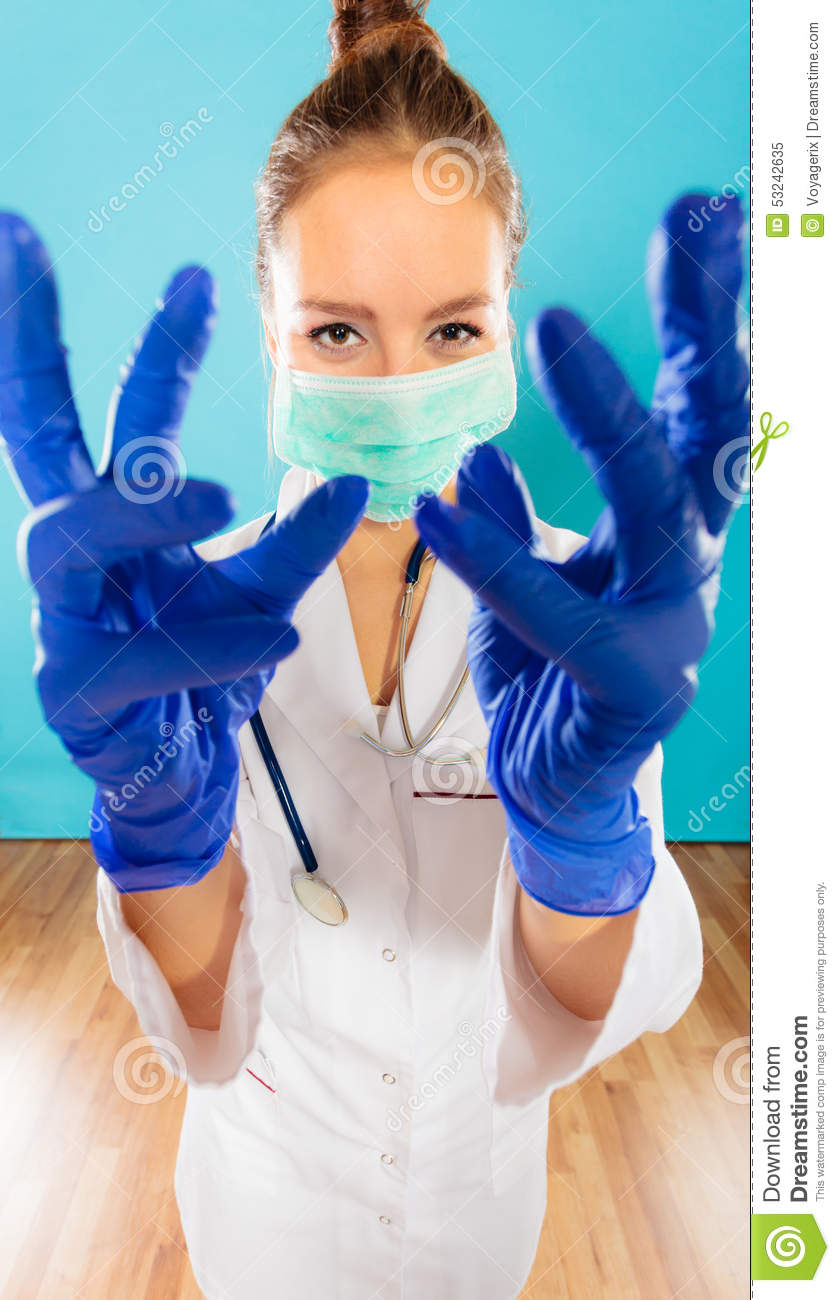mask: (278, 381, 518, 513)
